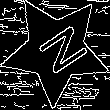N_SW: (25, 20, 87, 81)
